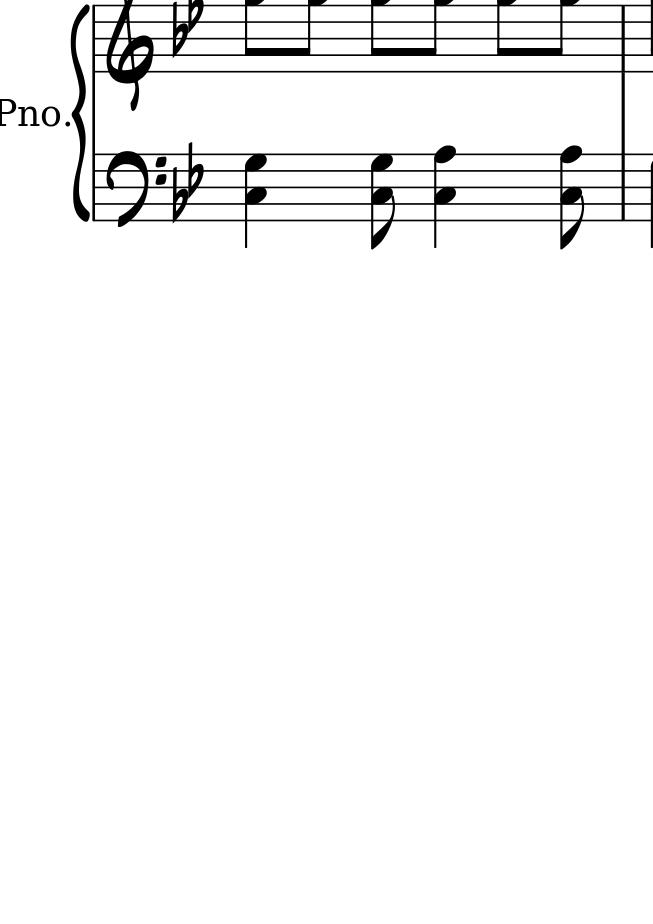4_3_7: (242, 153, 267, 249)
4_3_8: (433, 145, 458, 248)
8_3_7: (370, 151, 397, 252)
8_3_8: (558, 145, 586, 251)
B_F: (171, 142, 204, 223)
Brace: (72, 1, 90, 225)
Fclef: (104, 149, 166, 229)
Pno: (1, 96, 60, 128)
Single_barline: (615, 3, 632, 71), (616, 154, 630, 219), (89, 155, 102, 218)
